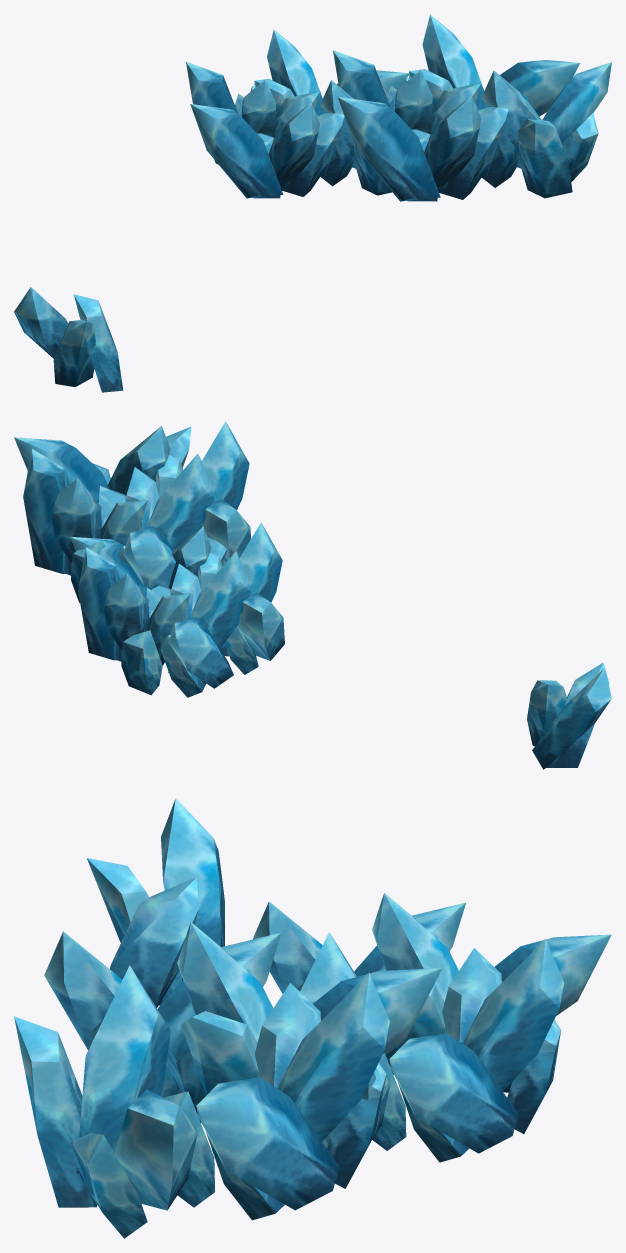
The model's file is gems.fbx.
The picture shows the model from 3 angles, top to bottom: view 1: azimuth 30°, elevation 25°; view 2: azimuth 150°, elevation 25°; view 3: azimuth 270°, elevation 25°; orthographic projection. The views are drawn at different scales.
Parts seen in each view (by area): view 1: Material_#238682126/town_mine_entrance_01; view 2: Material_#238682126/town_mine_entrance_01; view 3: Material_#238682126/town_mine_entrance_01.
Part boxes in pixels (left/top/right/bottom): Material_#238682126/town_mine_entrance_01: left=14, top=14, right=611, bottom=392; Material_#238682126/town_mine_entrance_01: left=14, top=421, right=611, bottom=769; Material_#238682126/town_mine_entrance_01: left=14, top=798, right=611, bottom=1238.
Size of the model in its own units: 4.83 by 1.74 by 2.59.
